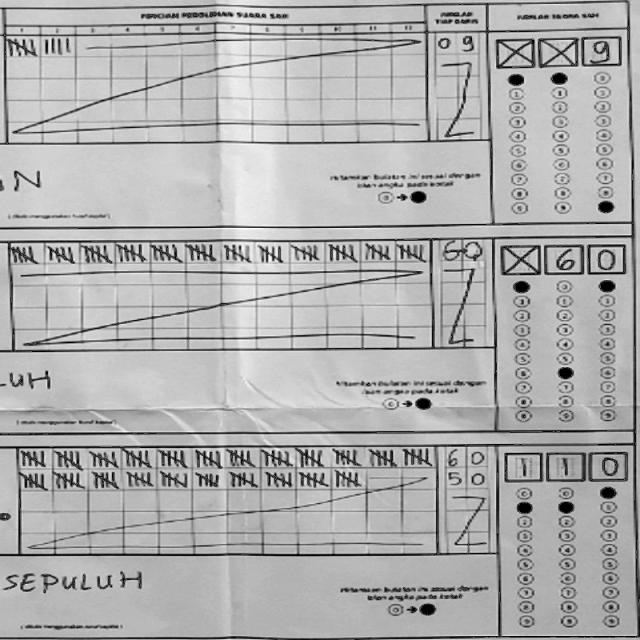Suara: (498, 445, 624, 482), (494, 235, 621, 271), (493, 34, 628, 67)
